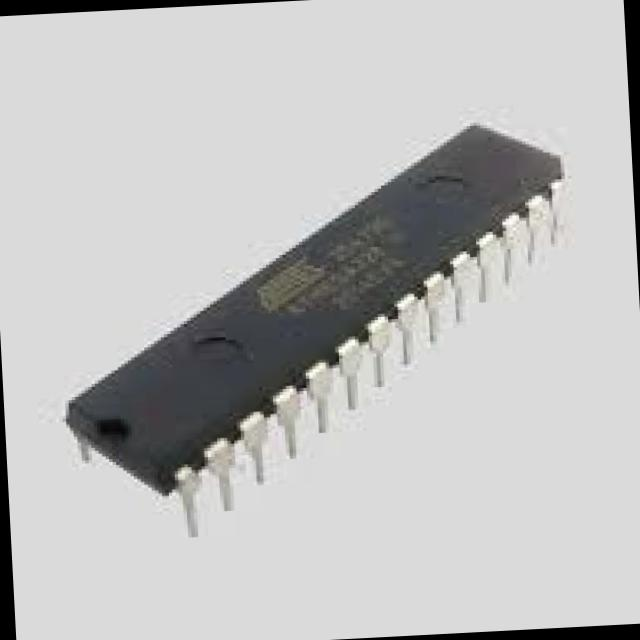atmega: (44, 111, 590, 544)
